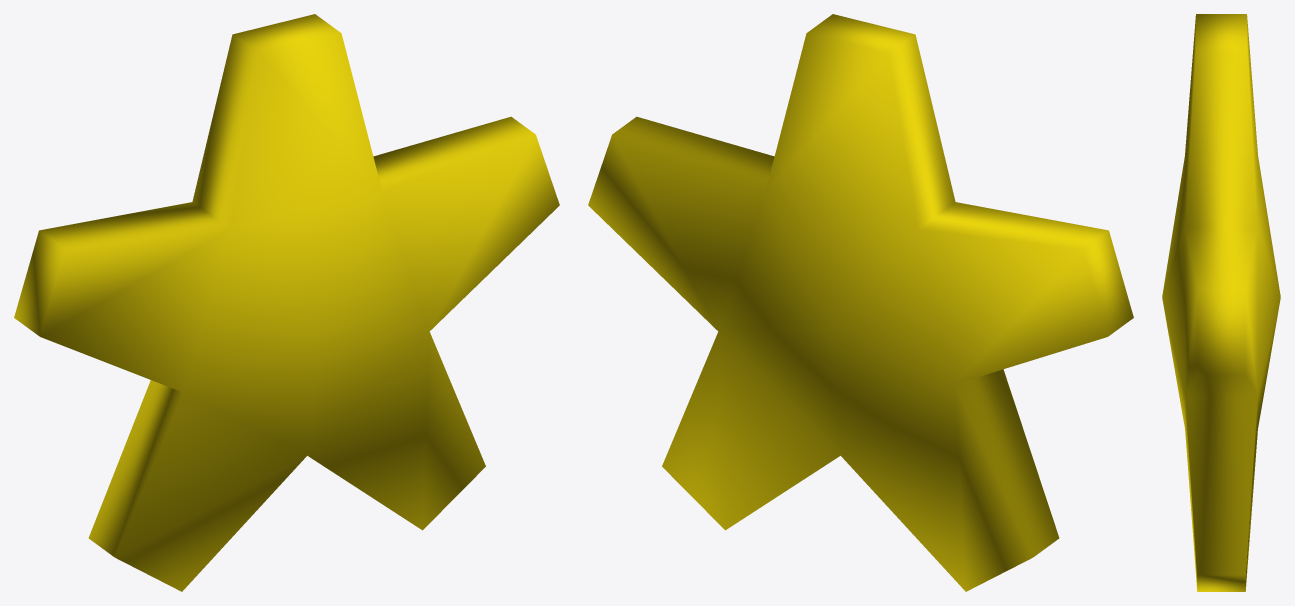
Rendered from cle.dae.
The picture shows the model from 3 angles, left to right: view 1: azimuth 30°, elevation 25°; view 2: azimuth 150°, elevation 25°; view 3: azimuth 270°, elevation 25°; orthographic projection. The views are drawn at different scales.
Parts seen in each view (by area): view 1: Sphere; view 2: Sphere; view 3: Sphere.
Boxes of the visible parts, left/top/right/bottom form: Sphere: left=14, top=14, right=559, bottom=591; Sphere: left=588, top=14, right=1133, bottom=591; Sphere: left=1162, top=14, right=1280, bottom=591.
Size of the model in its own units: 8.7 by 1.78 by 8.3.
